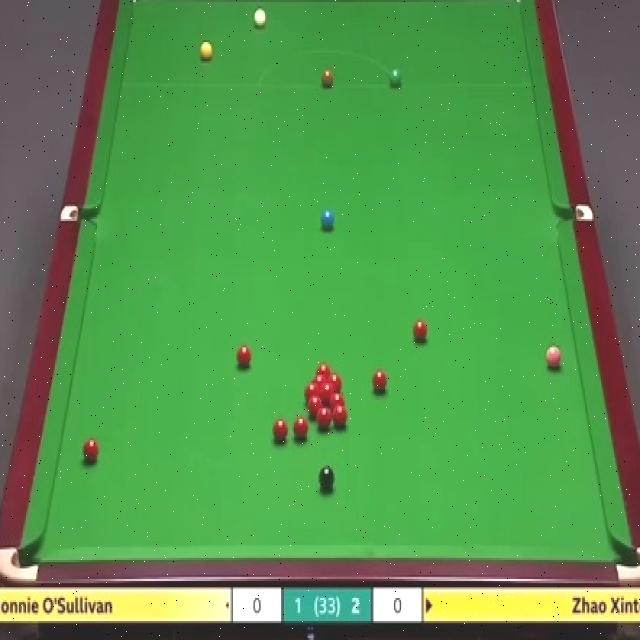black-ball: (318, 464, 335, 494)
blue-ball: (320, 209, 336, 231)
brown-ball: (321, 67, 334, 88)
green-ball: (388, 67, 402, 88)
pink-ball: (546, 343, 562, 370)
red-ball: (292, 414, 310, 444), (82, 438, 100, 466), (235, 343, 253, 371), (271, 417, 288, 442), (413, 317, 429, 343), (332, 405, 348, 430), (372, 368, 387, 393), (307, 395, 323, 417), (318, 407, 332, 431), (319, 382, 334, 401), (327, 373, 342, 392), (304, 382, 319, 399), (330, 394, 345, 408), (316, 363, 332, 375), (311, 374, 327, 384)
white-ball: (252, 5, 267, 30)
yellow-ball: (200, 41, 214, 63)
